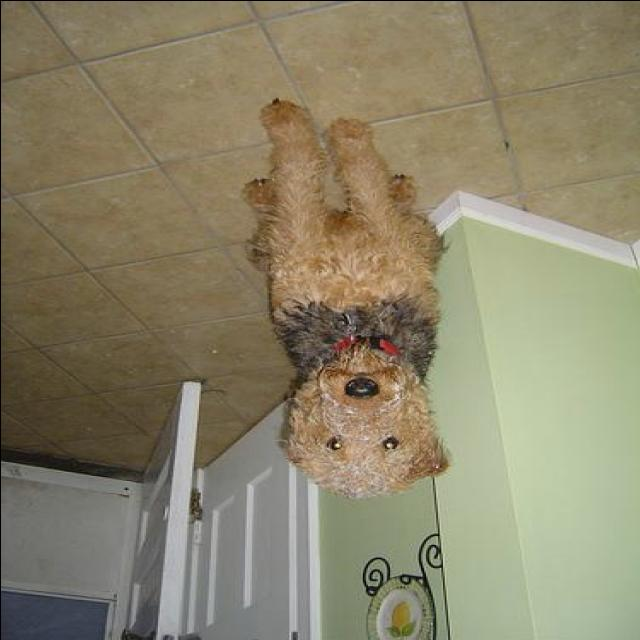airedale: (237, 99, 449, 496)
